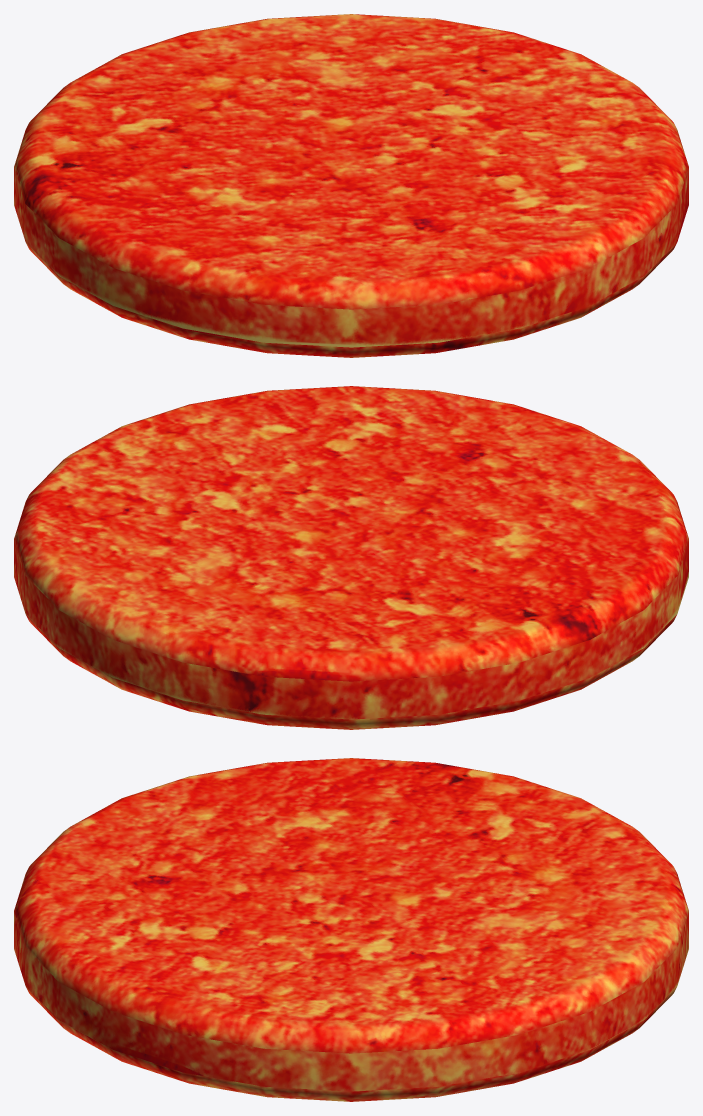
The model's file is Burger_Patty_Raw.fbx.
The picture shows the model from 3 angles, top to bottom: view 1: azimuth 30°, elevation 25°; view 2: azimuth 150°, elevation 25°; view 3: azimuth 270°, elevation 25°; orthographic projection.
Visible parts, largest first — view 1: Burger_Patty_Raw; view 2: Burger_Patty_Raw; view 3: Burger_Patty_Raw.
Part boxes in pixels (x1,y1,x2,y2): Burger_Patty_Raw: [14, 14, 688, 357]; Burger_Patty_Raw: [14, 386, 688, 729]; Burger_Patty_Raw: [14, 758, 688, 1101].
Size of the model in its own units: 0.6524 by 0.0813 by 0.6524.
1 material, 1 textured.
